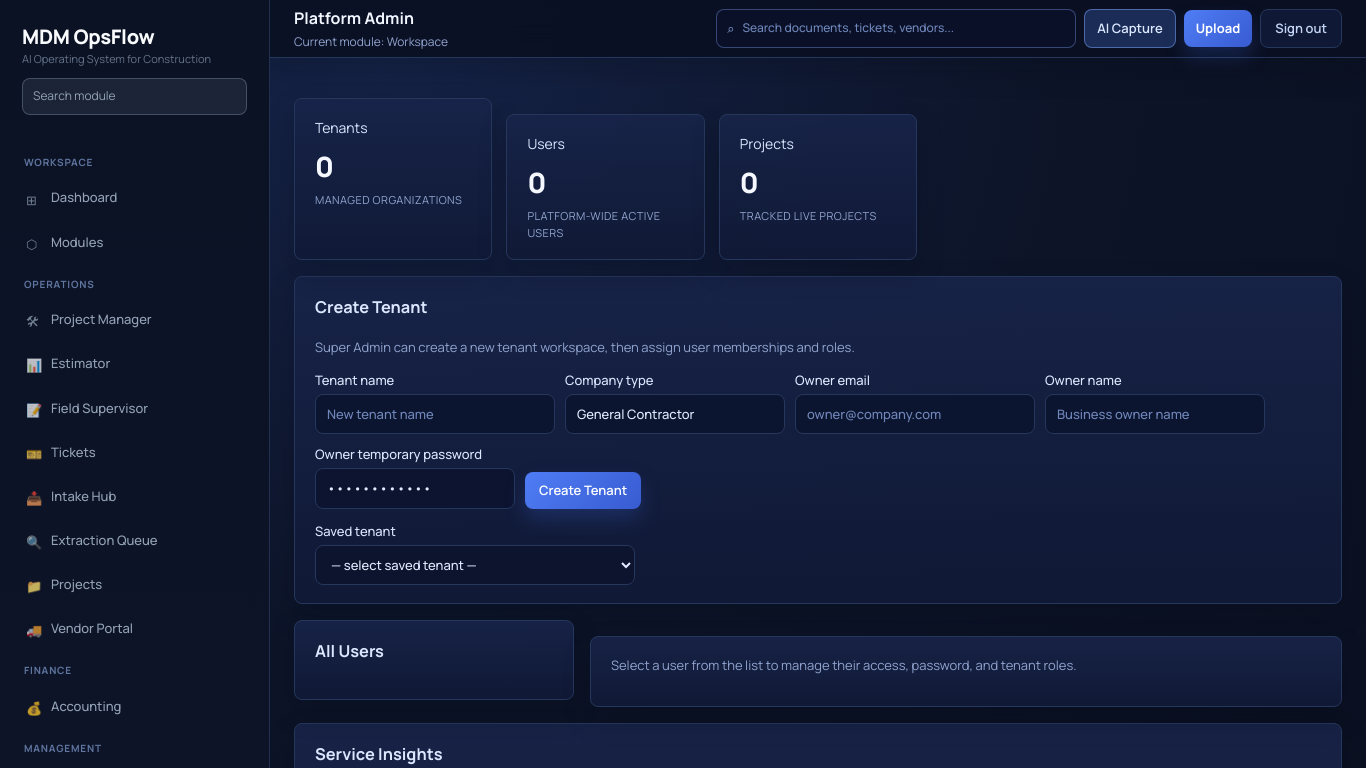
Test: Platform admin tenant creation › refreshes the session and retries tenant creation when the token expires
This screenshot has width=1366, height=768.
Type "Token Refresh Civil" into the field labelled "Tenant name" at (435, 414), box [315,394,555,434]
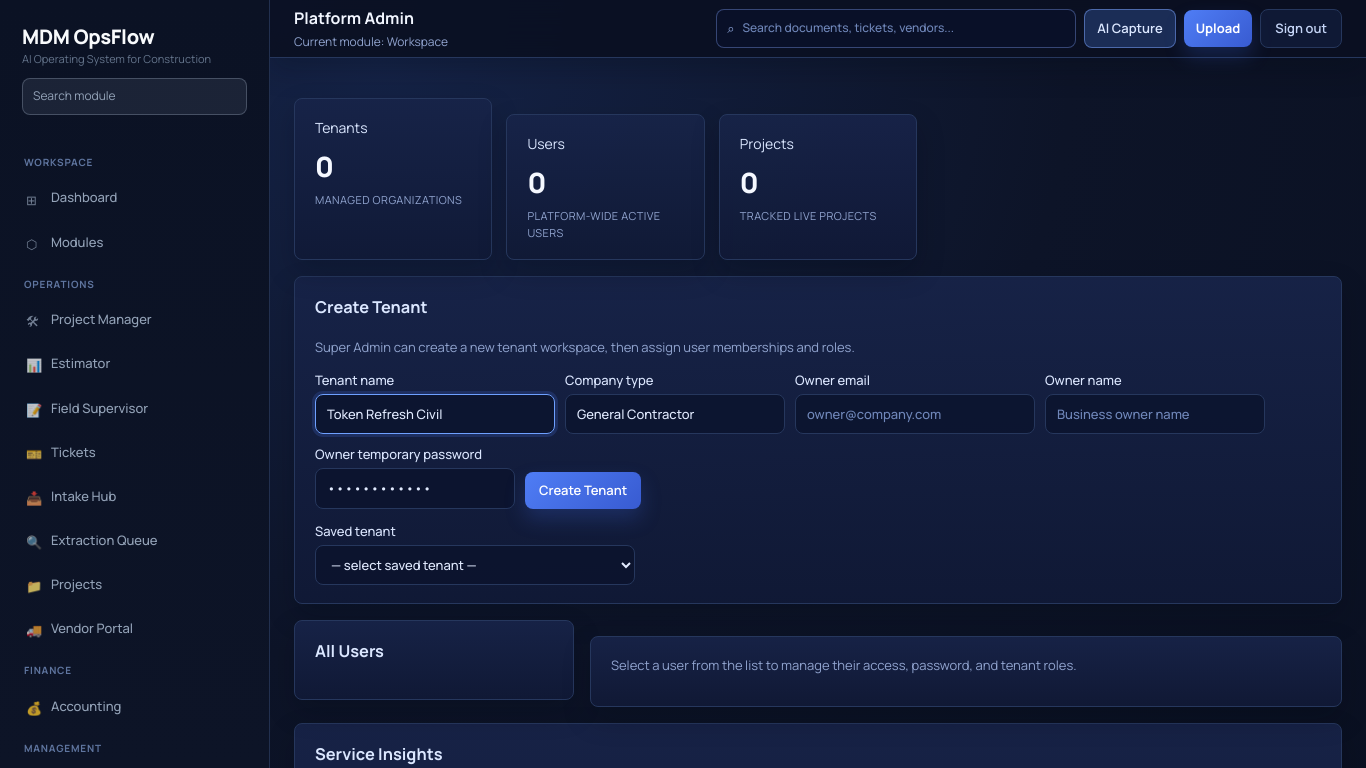
Click the button "Create Tenant" at (583, 491), box [525,472,641,509]
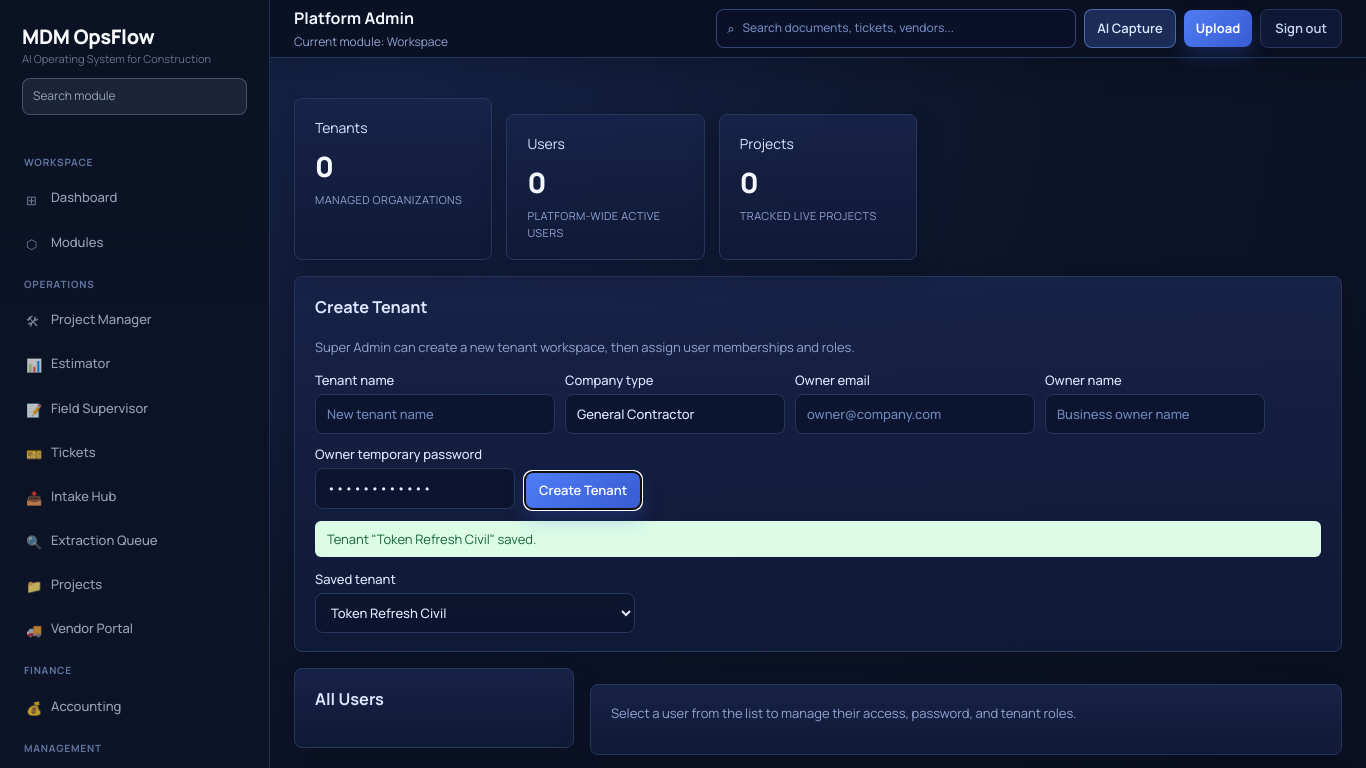
Expected: the text "Tenant \"Token Refresh Civil\" saved." is shown, [315,521,1321,557]
